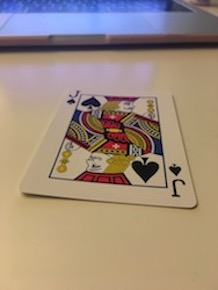JackOfSpades: (13, 83, 201, 217)
